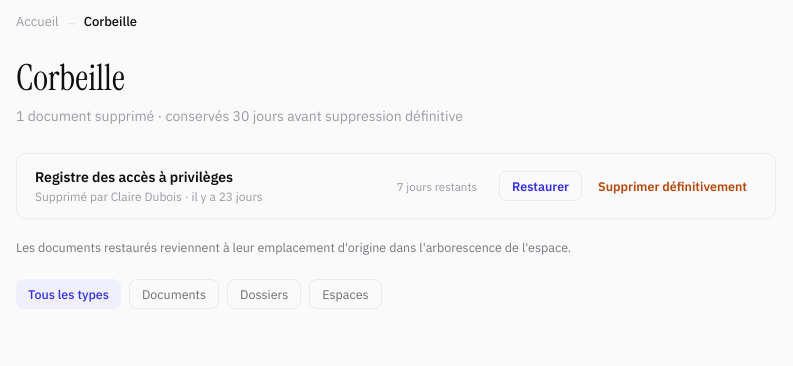
it: TrashPage › restaure puis rafraîchit depuis le backend (pas d’optimistic update)
expect the text "Registre des accès à privilèges" is shown: met, box [35,168,233,186]
Click the button "Restaurer".
click(540, 186)  # box [499,171,582,201]
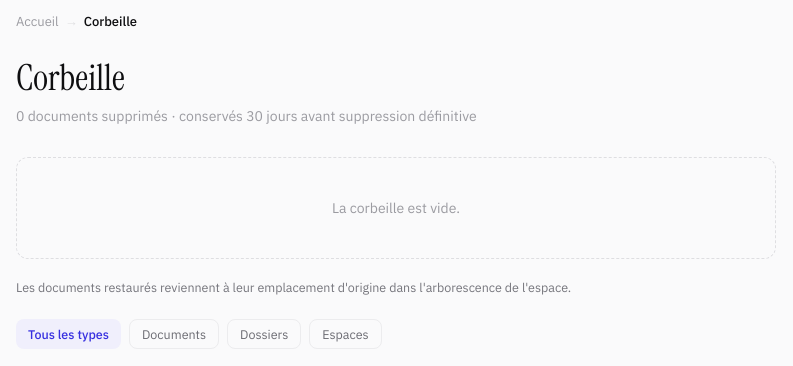
expect the text "La corbeille est vide." is shown: met, box [16,157,776,259]
expect the text "Registre des accès à privilèges" is gone: met
